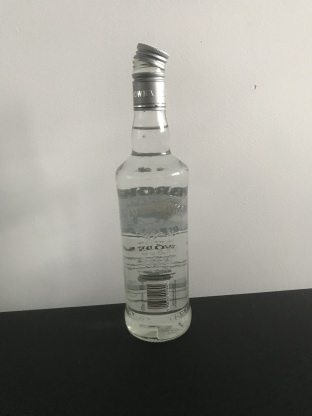nakretka: (130, 39, 169, 110)
